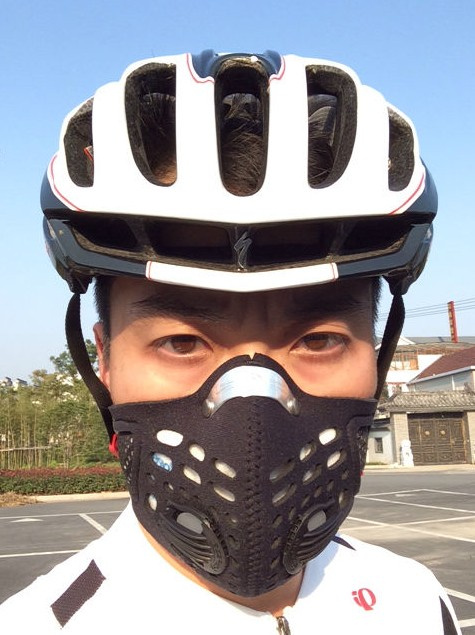face_mask: (117, 195, 382, 568)
